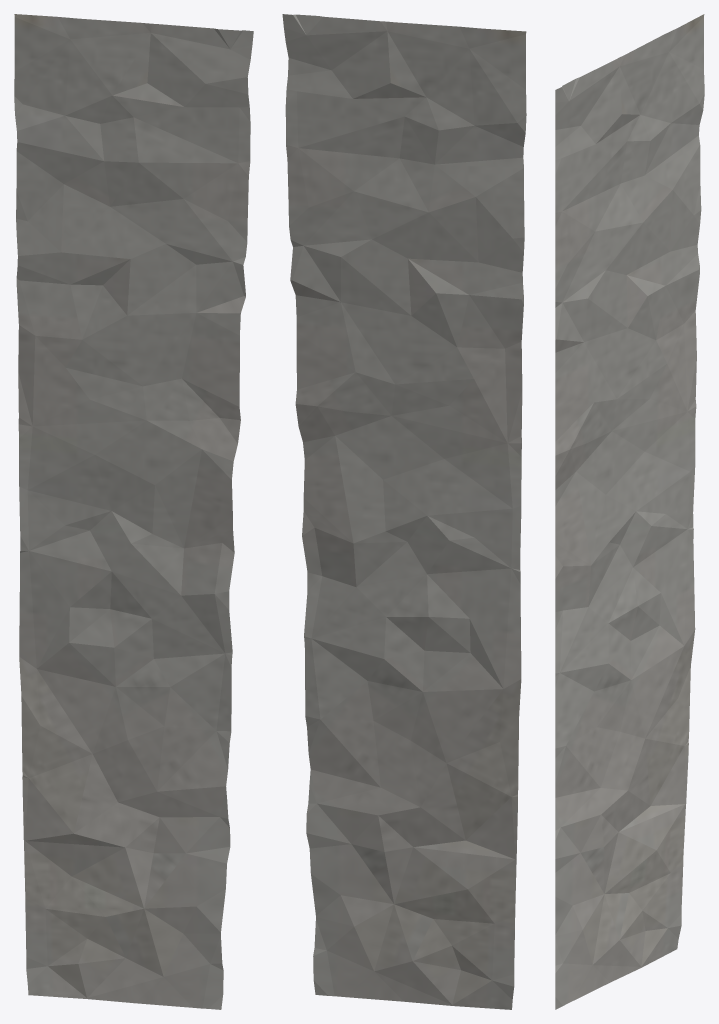
3 views of the same model, side by side, from view 1: azimuth 30°, elevation 25°; view 2: azimuth 210°, elevation 25°; view 3: azimuth 270°, elevation 25° (orthographic). The views are drawn at different scales.
Bounding box in the file's own units: 0.1461 × 0.8373 × 0.1214.
Materials: 1 (1 with a texture image).
